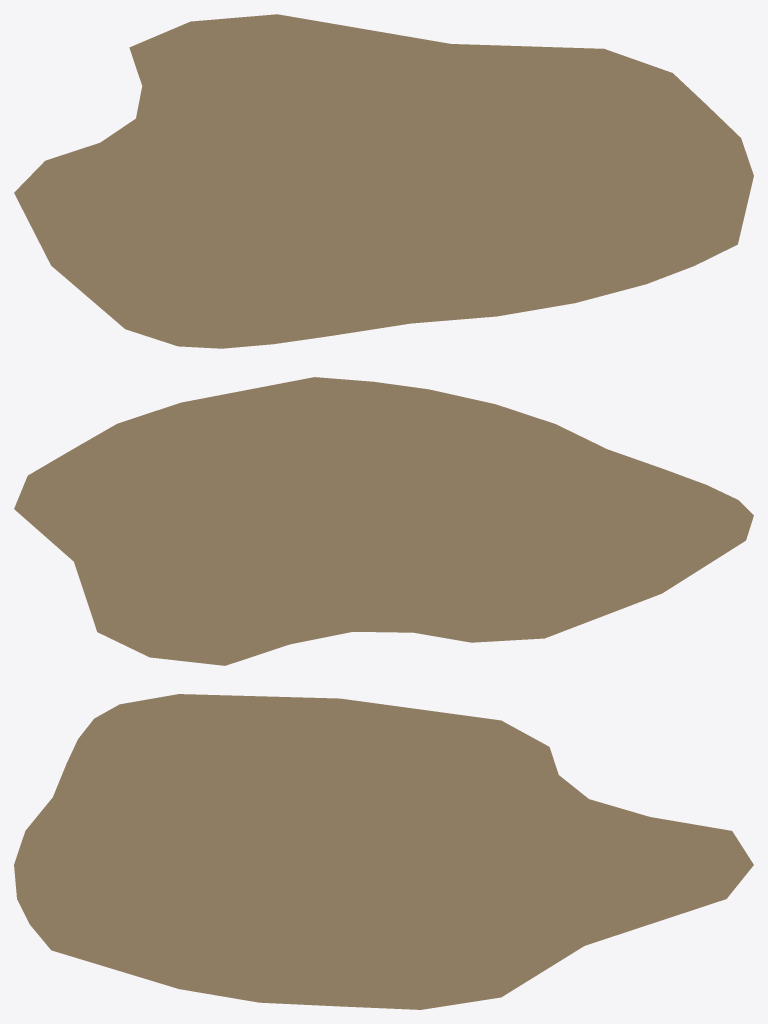
The model's file is flat map.fbx.
3 renders of one model, top to bottom at view 1: azimuth 30°, elevation 25°; view 2: azimuth 150°, elevation 25°; view 3: azimuth 270°, elevation 25°, orthographic. The views are drawn at different scales.
Visible parts, largest first — view 1: Plane; view 2: Plane; view 3: Plane.
Part boxes in pixels (x1,y1,x2,y2): Plane: [14, 14, 753, 348]; Plane: [14, 377, 753, 665]; Plane: [14, 694, 753, 1009].
Size of the model in its own units: 2319 by 0.000374 by 2295.
